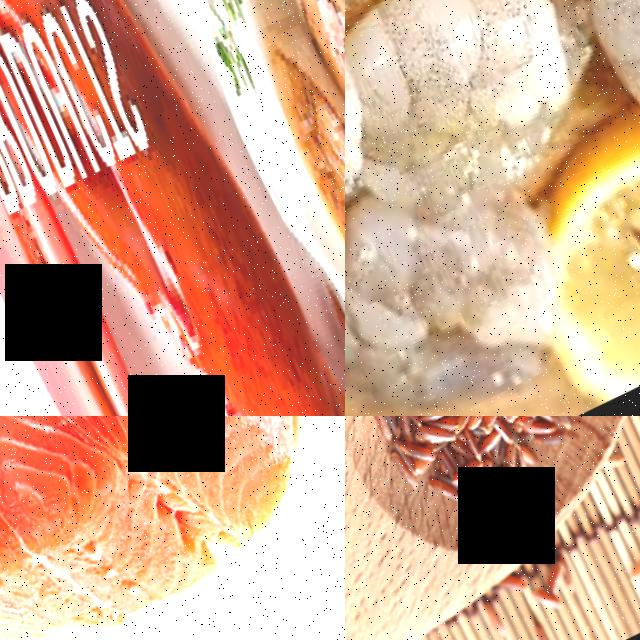red rice: (345, 416, 640, 553)
salmon: (0, 416, 345, 640)
sea scallops: (241, 3, 345, 351), (258, 0, 345, 265)
spinach: (345, 0, 608, 243), (345, 194, 572, 416)
